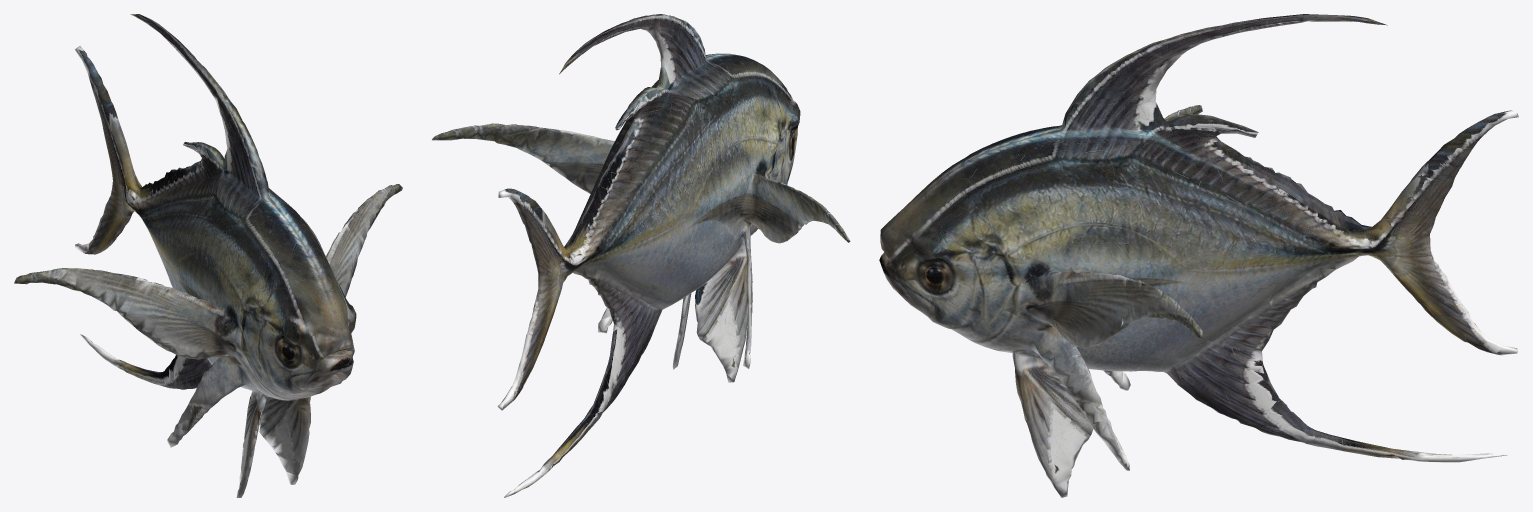
Rendered from fish_threadfin.glb.
3 renders of one model, left to right at view 1: azimuth 30°, elevation 25°; view 2: azimuth 150°, elevation 25°; view 3: azimuth 270°, elevation 25°, orthographic. The views are drawn at different scales.
Parts seen in each view (by area): view 1: geometry_0; view 2: geometry_0; view 3: geometry_0.
Part boxes in pixels (left/top/right/bottom): geometry_0: left=14, top=14, right=402, bottom=497; geometry_0: left=432, top=14, right=850, bottom=497; geometry_0: left=879, top=14, right=1518, bottom=497.
Bounding box in the file's own units: 1.66 × 1.58 × 1.96.
1 material, 1 textured.
